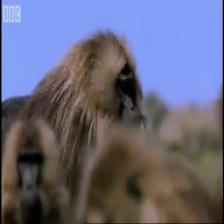monkey: (70, 12, 161, 148), (2, 109, 66, 224)
